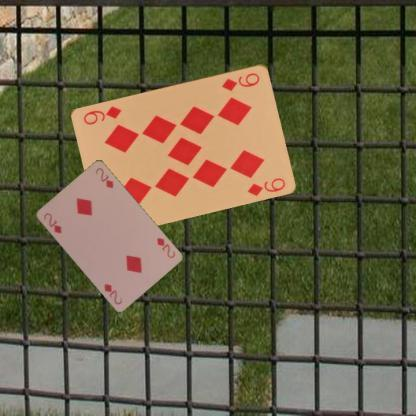2d: (154, 235, 176, 260), (41, 210, 62, 235)
9d: (219, 70, 261, 92)
